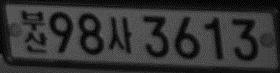1: (203, 17, 229, 59)
3: (142, 15, 169, 57), (231, 17, 257, 60)
6: (173, 16, 200, 59)
8: (78, 11, 104, 56)
9: (47, 11, 73, 53)
부산_V: (21, 10, 48, 53)
사: (107, 15, 132, 54)
